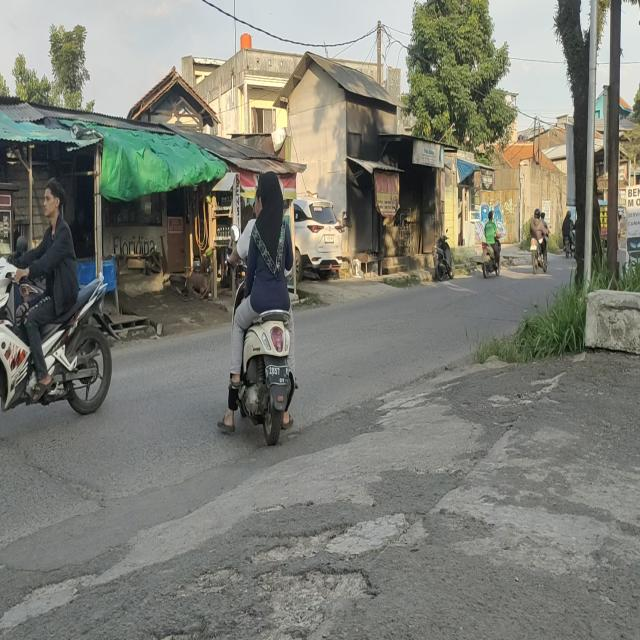no-helmet: (39, 173, 66, 220), (258, 172, 282, 211), (248, 182, 264, 218)
